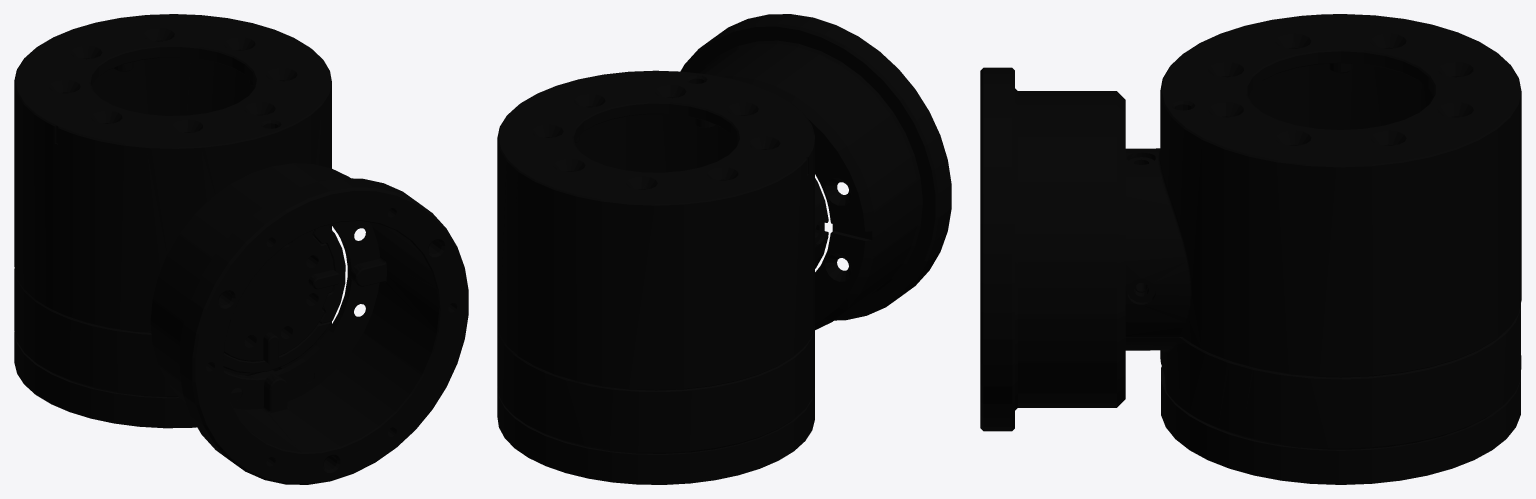
Rendered from torso_link3.obj.
3 renders of one model, left to right at view 1: azimuth 30°, elevation 25°; view 2: azimuth 150°, elevation 25°; view 3: azimuth 270°, elevation 25°, orthographic. The views are drawn at different scales.
Parts seen in each view (by area): view 1: torso_link3; view 2: torso_link3; view 3: torso_link3.
Part boxes in pixels (left/top/right/bottom): torso_link3: left=14, top=14, right=468, bottom=484; torso_link3: left=497, top=14, right=951, bottom=484; torso_link3: left=980, top=14, right=1521, bottom=484.
Size of the model in its own units: 0.1256 by 0.1338 by 0.1872.
1 material, 1 textured.
